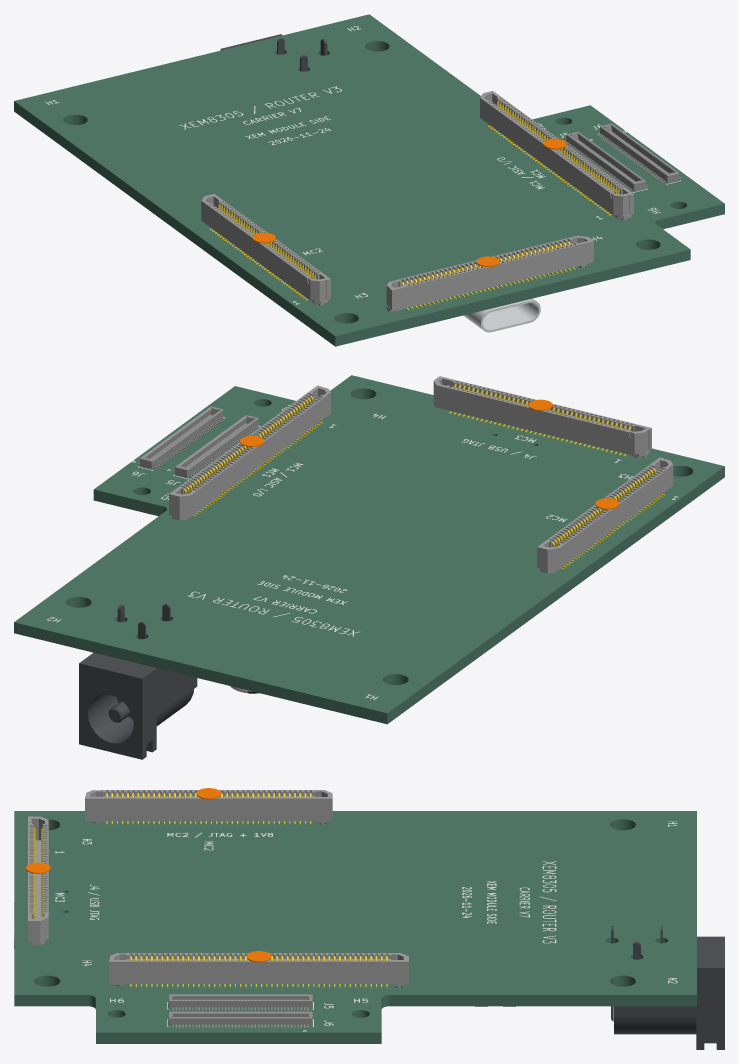
The model's file is 4k-direct-ldo-carrier-v7-placement.glb.
The picture shows the model from 3 angles, top to bottom: view 1: azimuth 30°, elevation 25°; view 2: azimuth 150°, elevation 25°; view 3: azimuth 270°, elevation 25°; orthographic projection. The views are drawn at different scales.
Visible parts, largest first — view 1: =>[0:1:1:196], ERF6-40-03.5-L-DV-A-K-TR_H (×2), ERF6-50-03.5-L-DV-A-K-TR_H, =>[0:1:1:13] (×2), =>[0:1:1:137], ERF6-40-03.5-L-DV-A-K-TR_P (×2), =>[0:1:1:194], ERF6-50-03.5-L-DV-A-K-TR_P, PJ102AH manufacturer body registered to footprint; view 2: =>[0:1:1:196], ERF6-40-03.5-L-DV-A-K-TR_H (×2), PJ102AH manufacturer body registered to footprint, ERF6-50-03.5-L-DV-A-K-TR_H, =>[0:1:1:13] (×2), =>[0:1:1:194], ERF6-40-03.5-L-DV-A-K-TR_P (×2), ERF6-50-03.5-L-DV-A-K-TR_P; view 3: =>[0:1:1:196], ERF6-40-03.5-L-DV-A-K-TR_H (×2), ERF6-50-03.5-L-DV-A-K-TR_H, PJ102AH manufacturer body registered to footprint, =>[0:1:1:13] (×2), =>[0:1:1:194], ERF6-50-03.5-L-DV-A-K-TR_P, ERF6-40-03.5-L-DV-A-K-TR_P.
Part boxes in pixels (x1=…): =>[0:1:1:196]: x1=14, y1=14, x2=724, y2=346; ERF6-40-03.5-L-DV-A-K-TR_H (×2): x1=201, y1=194, x2=593, y2=311; ERF6-50-03.5-L-DV-A-K-TR_H: x1=480, y1=91, x2=633, y2=220; =>[0:1:1:13] (×2): x1=566, y1=123, x2=681, y2=191; =>[0:1:1:137]: x1=463, y1=298, x2=540, y2=332; ERF6-40-03.5-L-DV-A-K-TR_P (×2): x1=209, y1=203, x2=575, y2=310; =>[0:1:1:194]: x1=45, y1=26, x2=680, y2=304; ERF6-50-03.5-L-DV-A-K-TR_P: x1=487, y1=100, x2=619, y2=215; PJ102AH manufacturer body registered to footprint: x1=220, y1=34, x2=327, y2=71; =>[0:1:1:196]: x1=14, y1=375, x2=724, y2=724; ERF6-40-03.5-L-DV-A-K-TR_H (×2): x1=433, y1=376, x2=673, y2=573; PJ102AH manufacturer body registered to footprint: x1=79, y1=603, x2=197, y2=759; ERF6-50-03.5-L-DV-A-K-TR_H: x1=169, y1=385, x2=330, y2=520; =>[0:1:1:13] (×2): x1=137, y1=406, x2=259, y2=477; =>[0:1:1:194]: x1=47, y1=405, x2=678, y2=699; ERF6-40-03.5-L-DV-A-K-TR_P (×2): x1=448, y1=383, x2=665, y2=569; ERF6-50-03.5-L-DV-A-K-TR_P: x1=184, y1=395, x2=322, y2=516; =>[0:1:1:196]: x1=14, y1=811, x2=696, y2=1043; ERF6-40-03.5-L-DV-A-K-TR_H (×2): x1=28, y1=790, x2=332, y2=945; ERF6-50-03.5-L-DV-A-K-TR_H: x1=109, y1=953, x2=408, y2=987; PJ102AH manufacturer body registered to footprint: x1=611, y1=926, x2=724, y2=1049; =>[0:1:1:13] (×2): x1=168, y1=994, x2=312, y2=1028; =>[0:1:1:194]: x1=55, y1=821, x2=677, y2=1031; ERF6-50-03.5-L-DV-A-K-TR_P: x1=130, y1=956, x2=387, y2=987; ERF6-40-03.5-L-DV-A-K-TR_P: x1=106, y1=793, x2=311, y2=824.
Size of the model in its own units: 0.0638 by 0.0164 by 0.0865.
